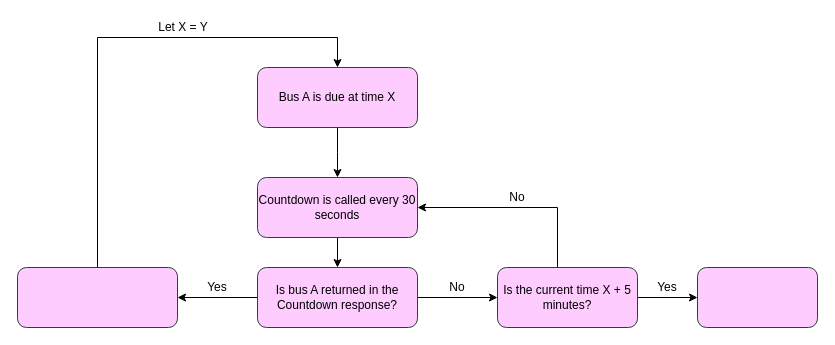
The diagram is 835 pixels wide and 345 high, and some of its shapes have lost their labels. Here are the shapes that lost their labels. From the top down, the centre of each, then its label:
At point (97, 297): "Update the estimated arrival time to the new time Y.".
At point (757, 297): "Bus arrived at time X".
